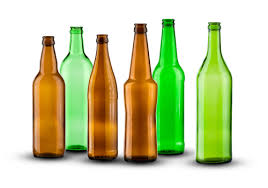glass_bottle: (29, 16, 121, 167), (125, 17, 187, 165), (193, 19, 236, 169)
